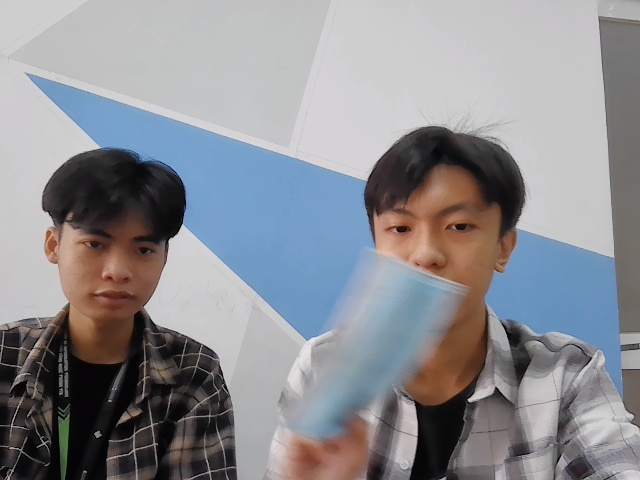human: (361, 117, 519, 321), (39, 141, 192, 324)
